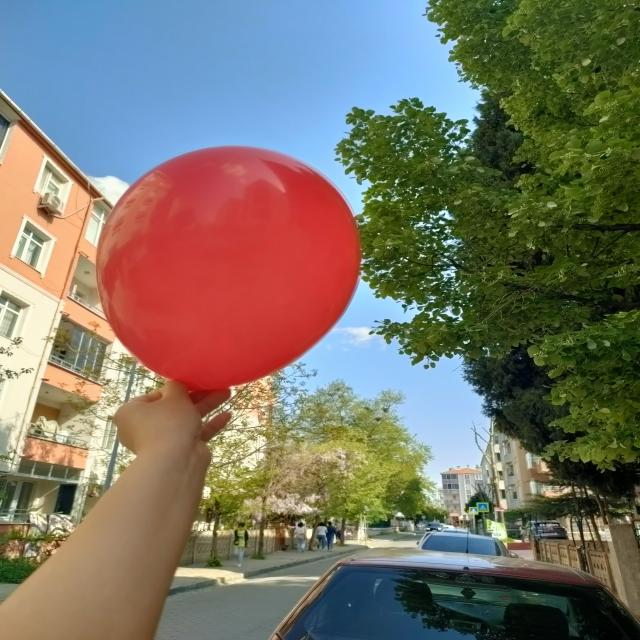red: (98, 147, 359, 390)
